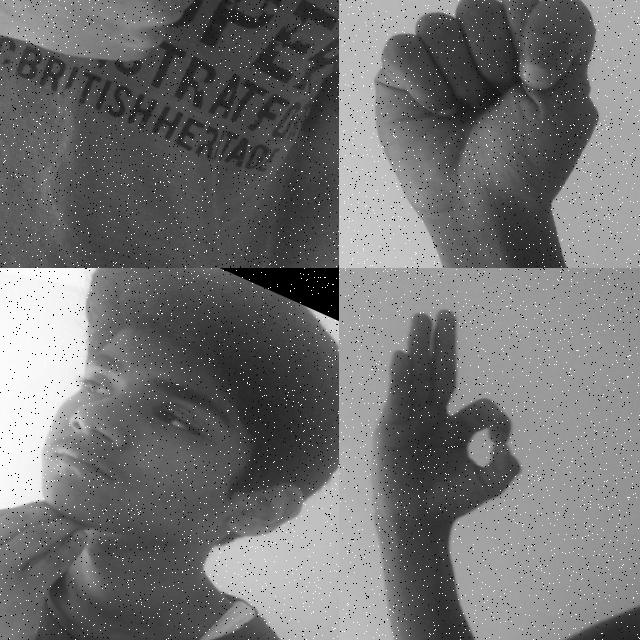Chin Flick: (0, 268, 339, 640)
Dulya: (339, 0, 640, 268), (0, 0, 253, 136)
Okay: (339, 286, 579, 593)
